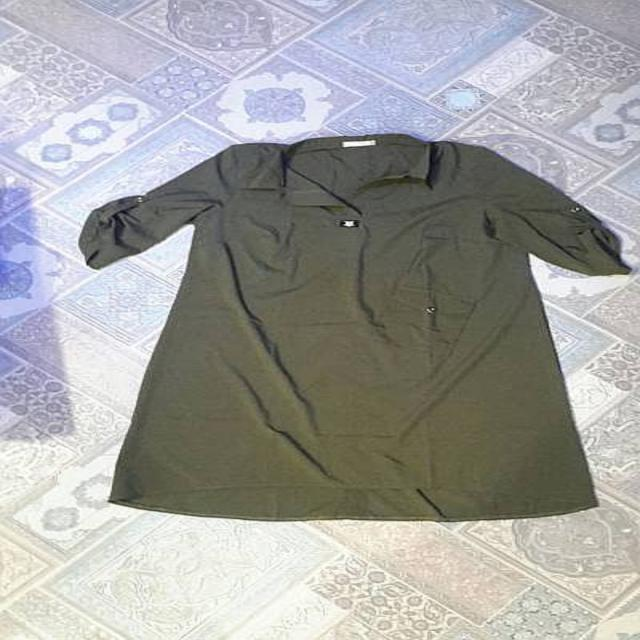T_SHIRT: (71, 126, 634, 526)
